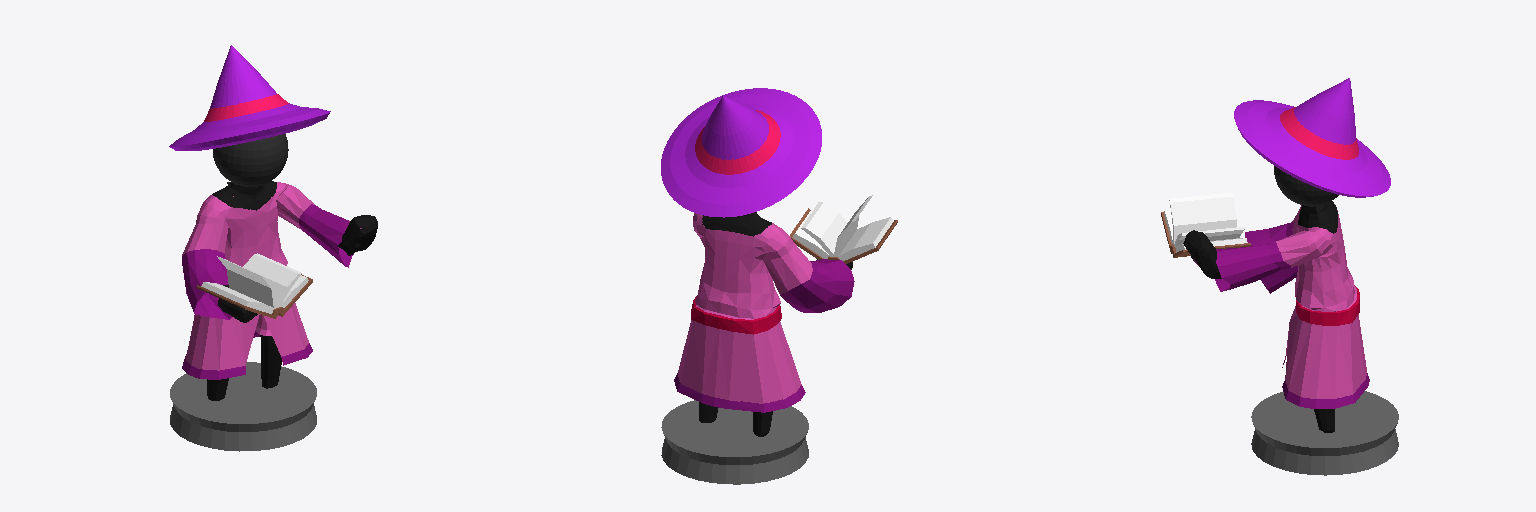
3 views of the same model, side by side, from view 1: azimuth 30°, elevation 25°; view 2: azimuth 150°, elevation 25°; view 3: azimuth 270°, elevation 25° (orthographic).
Parts seen in each view (by area): view 1: Body, Cylinder, 円錐, book.001, 球, book; view 2: Body, 円錐, Cylinder, book.001, book; view 3: Body, 円錐, Cylinder, book.001, 球.
Part boxes in pixels (x1,y1,x2,y2): Body: (182, 181, 377, 400); Cylinder: (170, 362, 316, 451); 円錐: (169, 45, 330, 150); book.001: (201, 253, 308, 313); 球: (213, 134, 288, 186); book: (197, 274, 312, 318); Body: (674, 212, 854, 436); 円錐: (661, 88, 821, 217); Cylinder: (661, 400, 808, 484); book.001: (792, 195, 893, 260); book: (790, 208, 897, 263); Body: (1183, 201, 1369, 432); 円錐: (1234, 78, 1390, 197); Cylinder: (1251, 391, 1398, 475); book.001: (1164, 192, 1247, 252); 球: (1274, 166, 1338, 206).
Size of the model in its own units: 1.7 by 3.5 by 2.06.
6 materials, 5 textured.